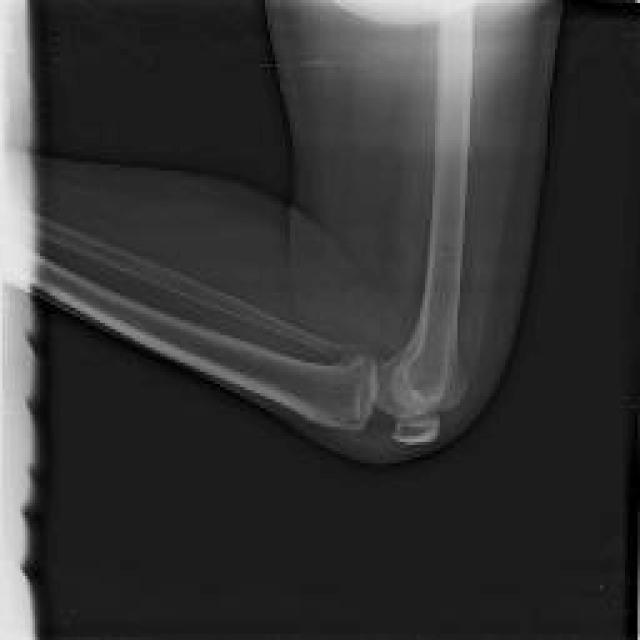normal: (30, 257, 379, 426), (26, 217, 371, 360), (389, 14, 472, 420), (392, 420, 436, 445)
